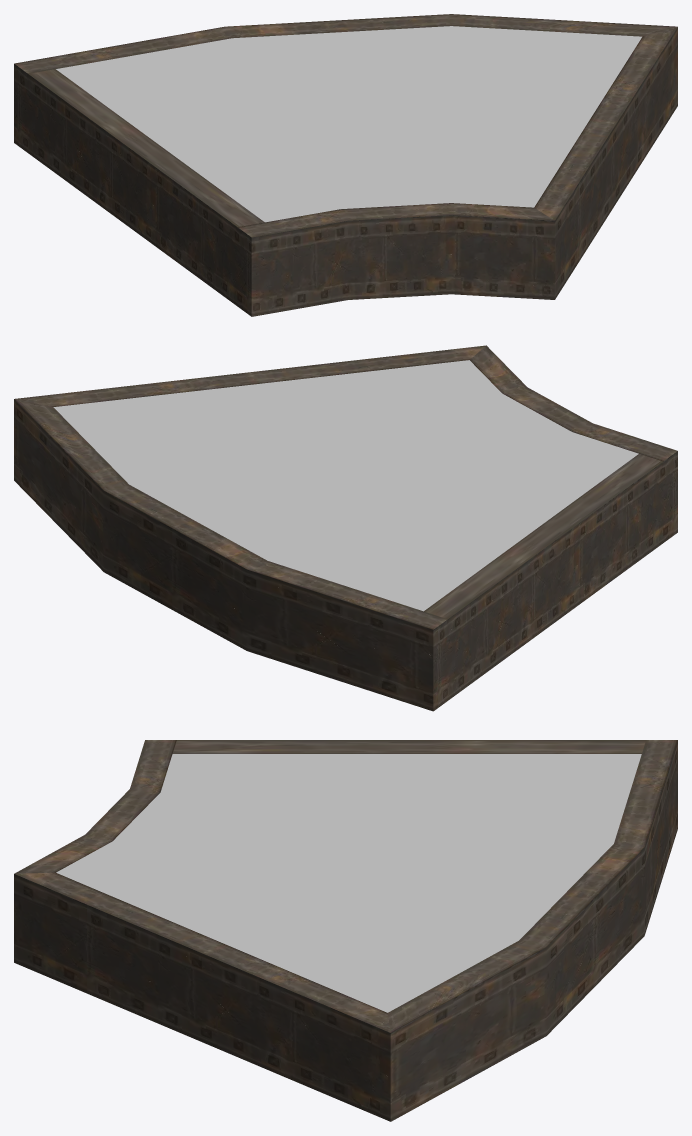
3 views of the same model, one above another, from view 1: azimuth 30°, elevation 25°; view 2: azimuth 150°, elevation 25°; view 3: azimuth 270°, elevation 25° (orthographic). The views are drawn at different scales.
Parts seen in each view (by area): view 1: SM_Dowdun_Spiral_Staircase_Tower_08_LOD0; view 2: SM_Dowdun_Spiral_Staircase_Tower_08_LOD0; view 3: SM_Dowdun_Spiral_Staircase_Tower_08_LOD0.
Boxes of the visible parts, x1,y1,x2,y2 form: SM_Dowdun_Spiral_Staircase_Tower_08_LOD0: [14, 14, 677, 316]; SM_Dowdun_Spiral_Staircase_Tower_08_LOD0: [14, 345, 677, 711]; SM_Dowdun_Spiral_Staircase_Tower_08_LOD0: [14, 740, 677, 1121].
Size of the model in its own units: 3.54 by 0.5 by 3.39.
